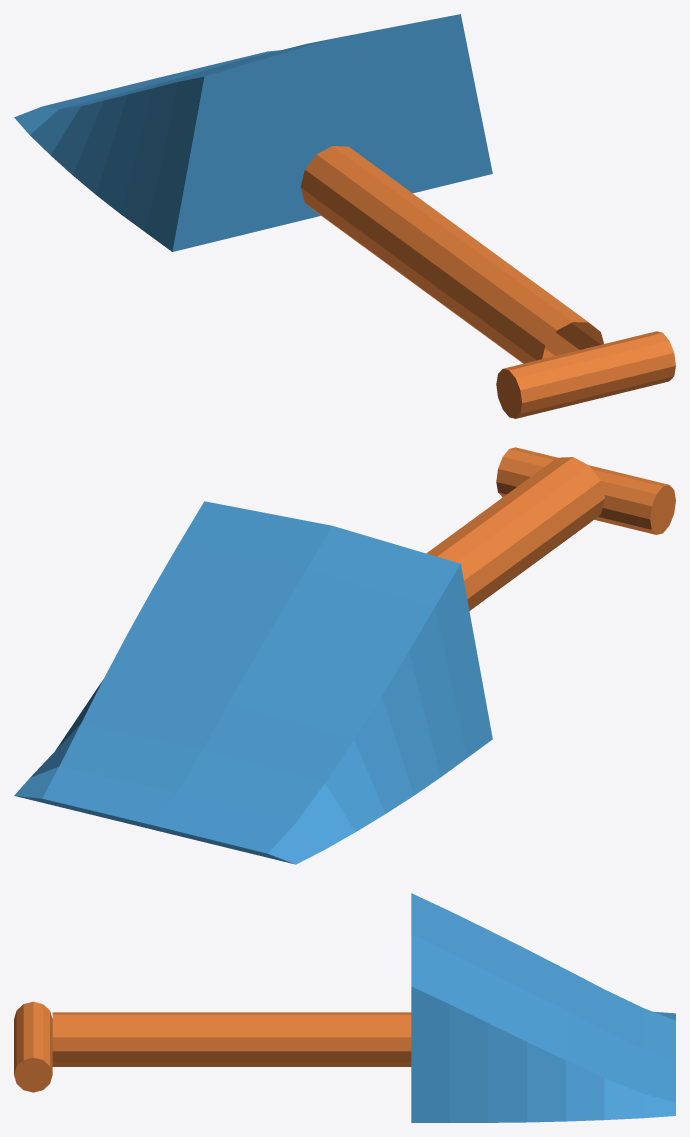
The model's file is sand_shovel.glb.
3 renders of one model, top to bottom at view 1: azimuth 30°, elevation 25°; view 2: azimuth 150°, elevation 25°; view 3: azimuth 270°, elevation 25°, orthographic. The views are drawn at different scales.
Parts seen in each view (by area): view 1: sand_shovel; view 2: sand_shovel; view 3: sand_shovel.
Boxes of the visible parts, x1=… form: sand_shovel: x1=14, y1=14, x2=675, y2=418; sand_shovel: x1=14, y1=447, x2=675, y2=864; sand_shovel: x1=14, y1=893, x2=675, y2=1122.
Bounding box in the file's own units: 5 × 2.6 × 12.
